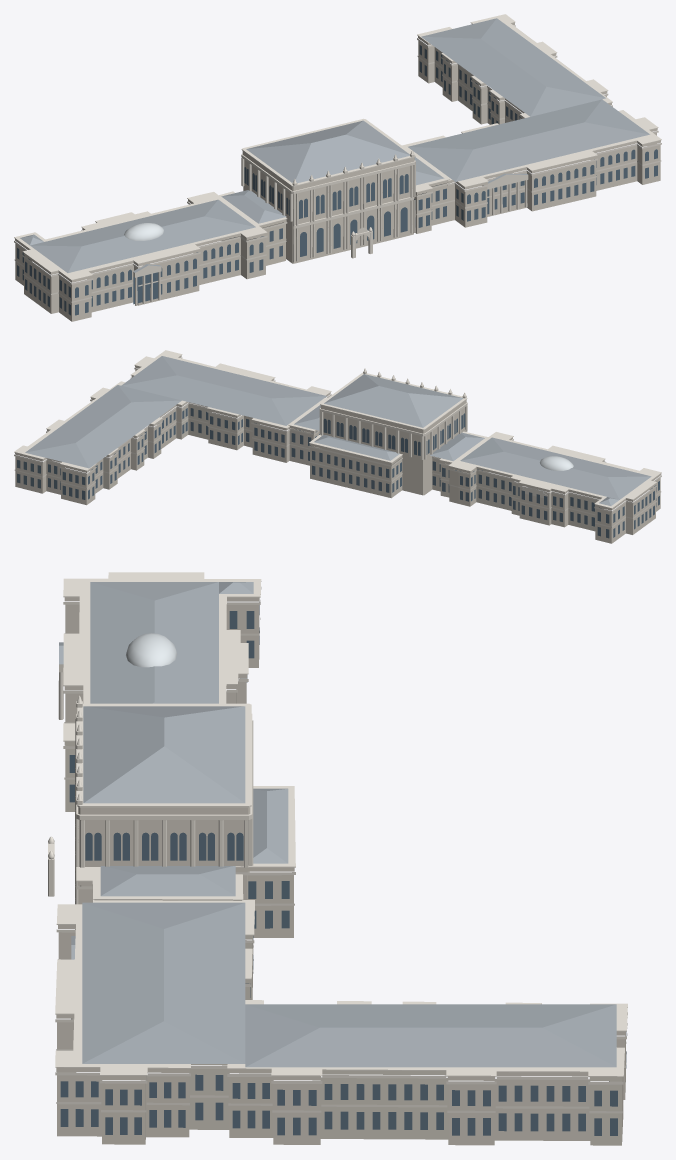
The model's file is istanbul-dolmabahce-palace.glb.
3 renders of one model, top to bottom at view 1: azimuth 30°, elevation 25°; view 2: azimuth 150°, elevation 25°; view 3: azimuth 270°, elevation 25°, orthographic. The views are drawn at different scales.
Visible parts, largest first — view 1: Dolmabahçe Palace; view 2: Dolmabahçe Palace; view 3: Dolmabahçe Palace.
Boxes of the visible parts, left/top/right/bottom form: Dolmabahçe Palace: left=14, top=14, right=661, bottom=321; Dolmabahçe Palace: left=14, top=350, right=661, bottom=543; Dolmabahçe Palace: left=48, top=572, right=627, bottom=1145.
Bounding box in the file's own units: 291 × 42.2 × 142.
